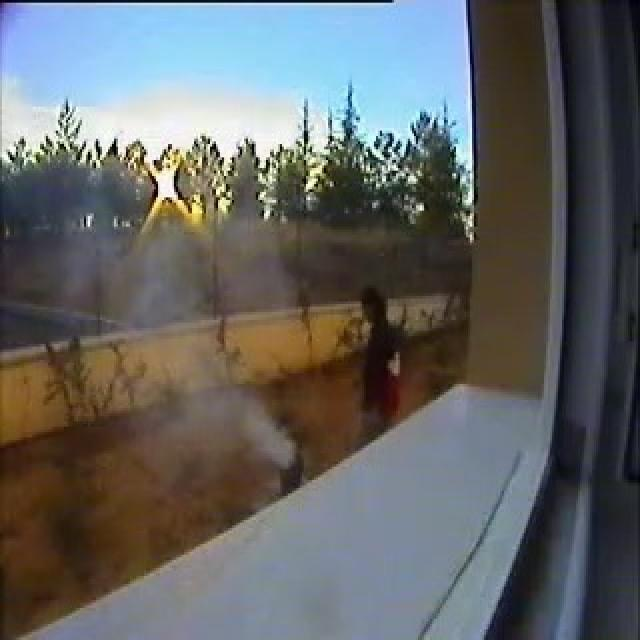smoke: (164, 384, 294, 464)
